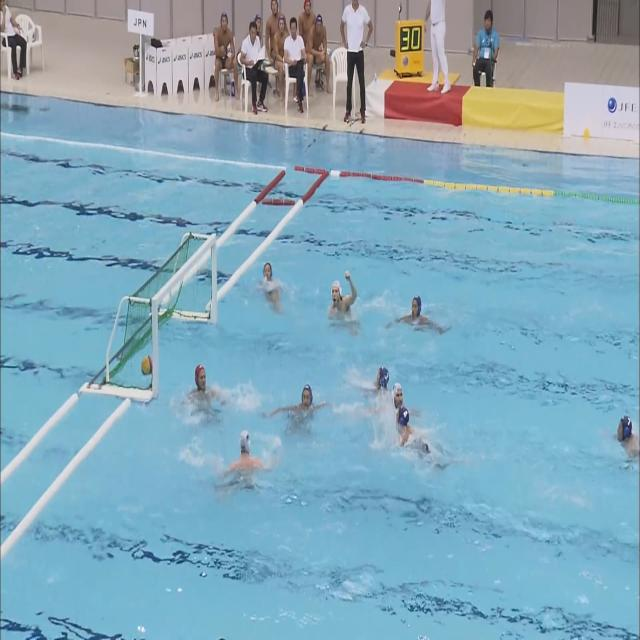ball: (141, 356, 152, 375)
